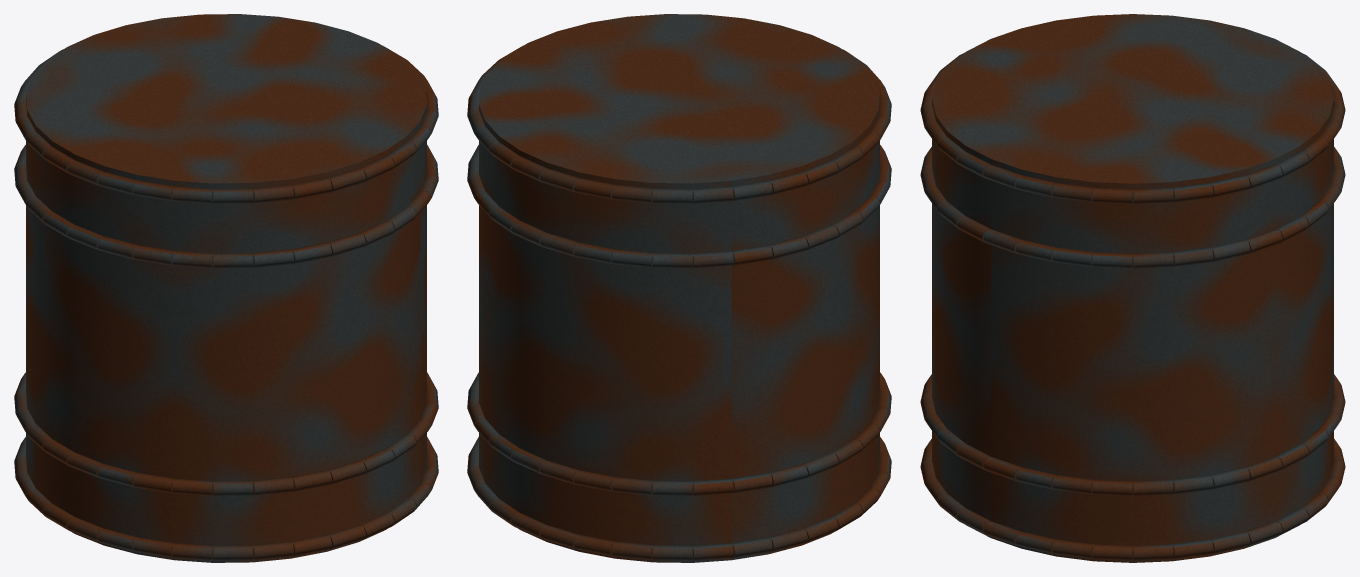
File: MetalCan.fbx
The picture shows the model from 3 angles, left to right: view 1: azimuth 30°, elevation 25°; view 2: azimuth 150°, elevation 25°; view 3: azimuth 270°, elevation 25°; orthographic projection.
Visible parts, largest first — view 1: MetalCan; view 2: MetalCan; view 3: MetalCan.
Boxes of the visible parts, left/top/right/bottom form: MetalCan: left=14, top=14, right=438, bottom=562; MetalCan: left=467, top=14, right=891, bottom=562; MetalCan: left=920, top=14, right=1345, bottom=562.
Size of the model in its own units: 102 by 100 by 102.
